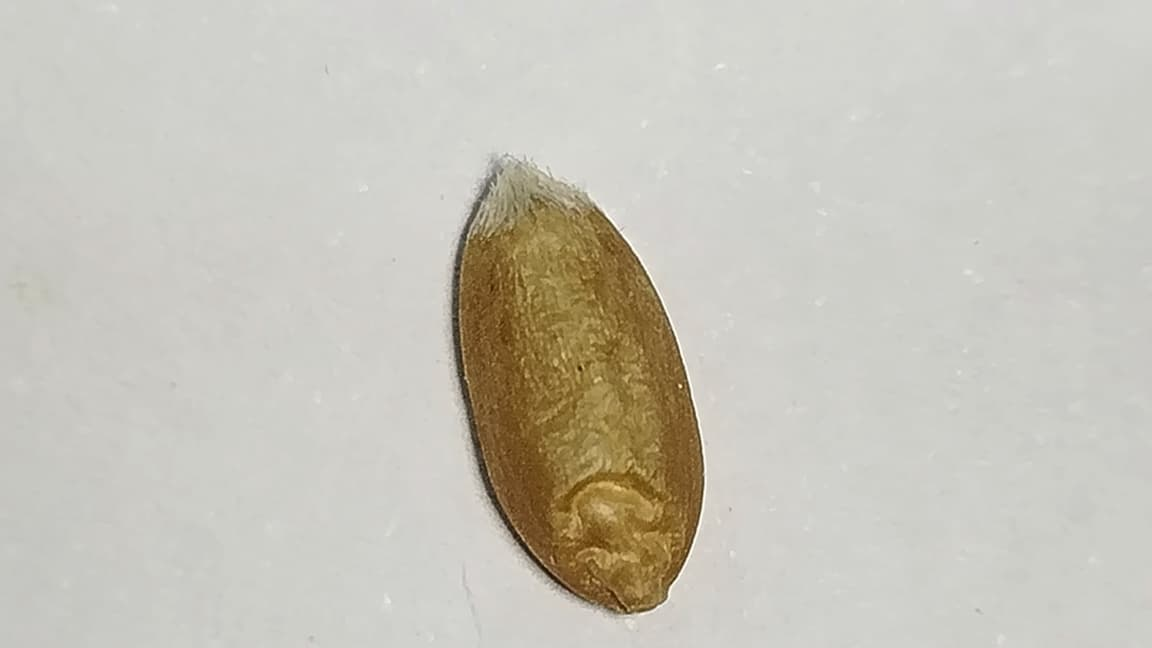healthy: (452, 153, 704, 613)
